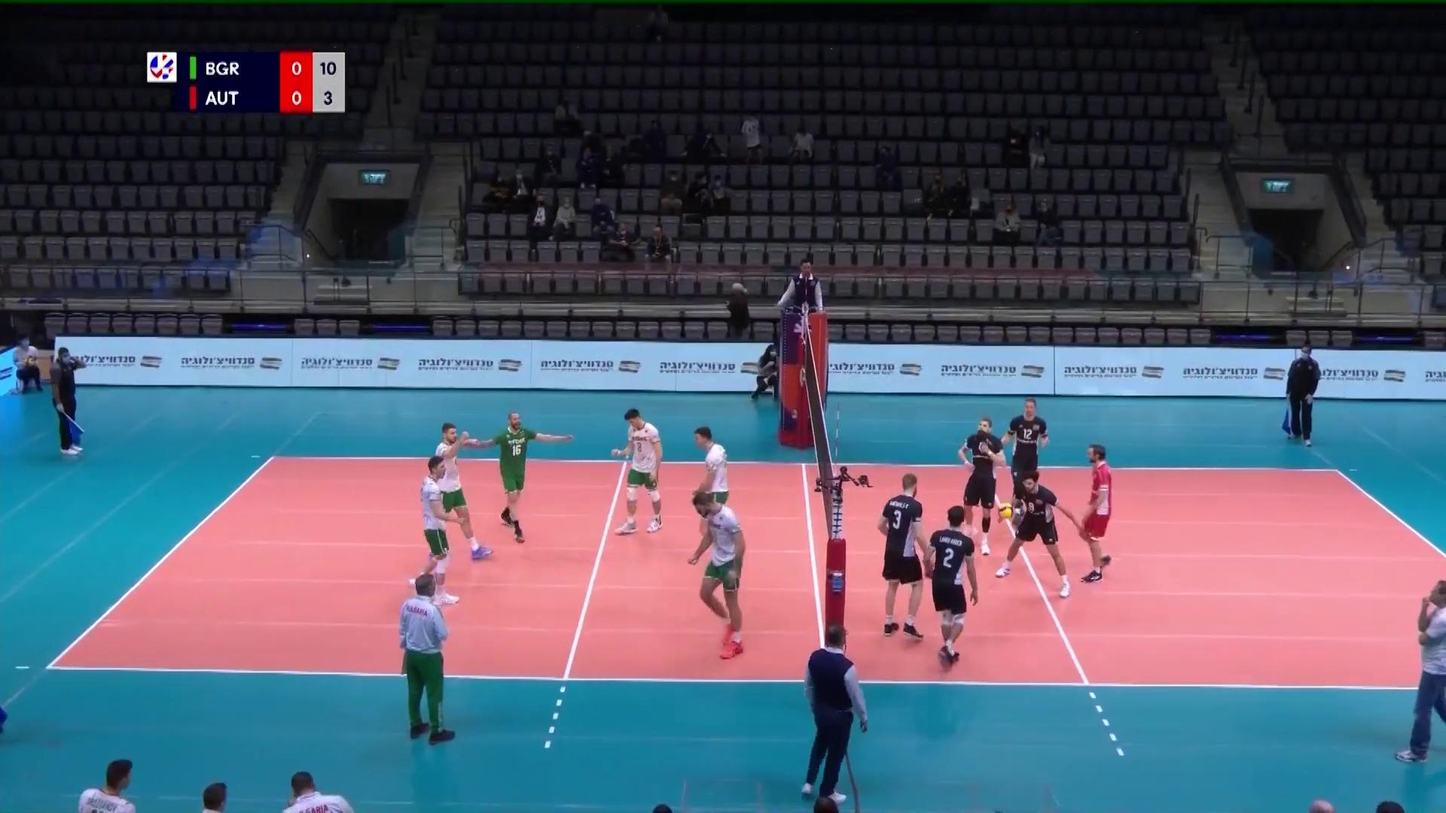ball: (997, 502, 1014, 519)
